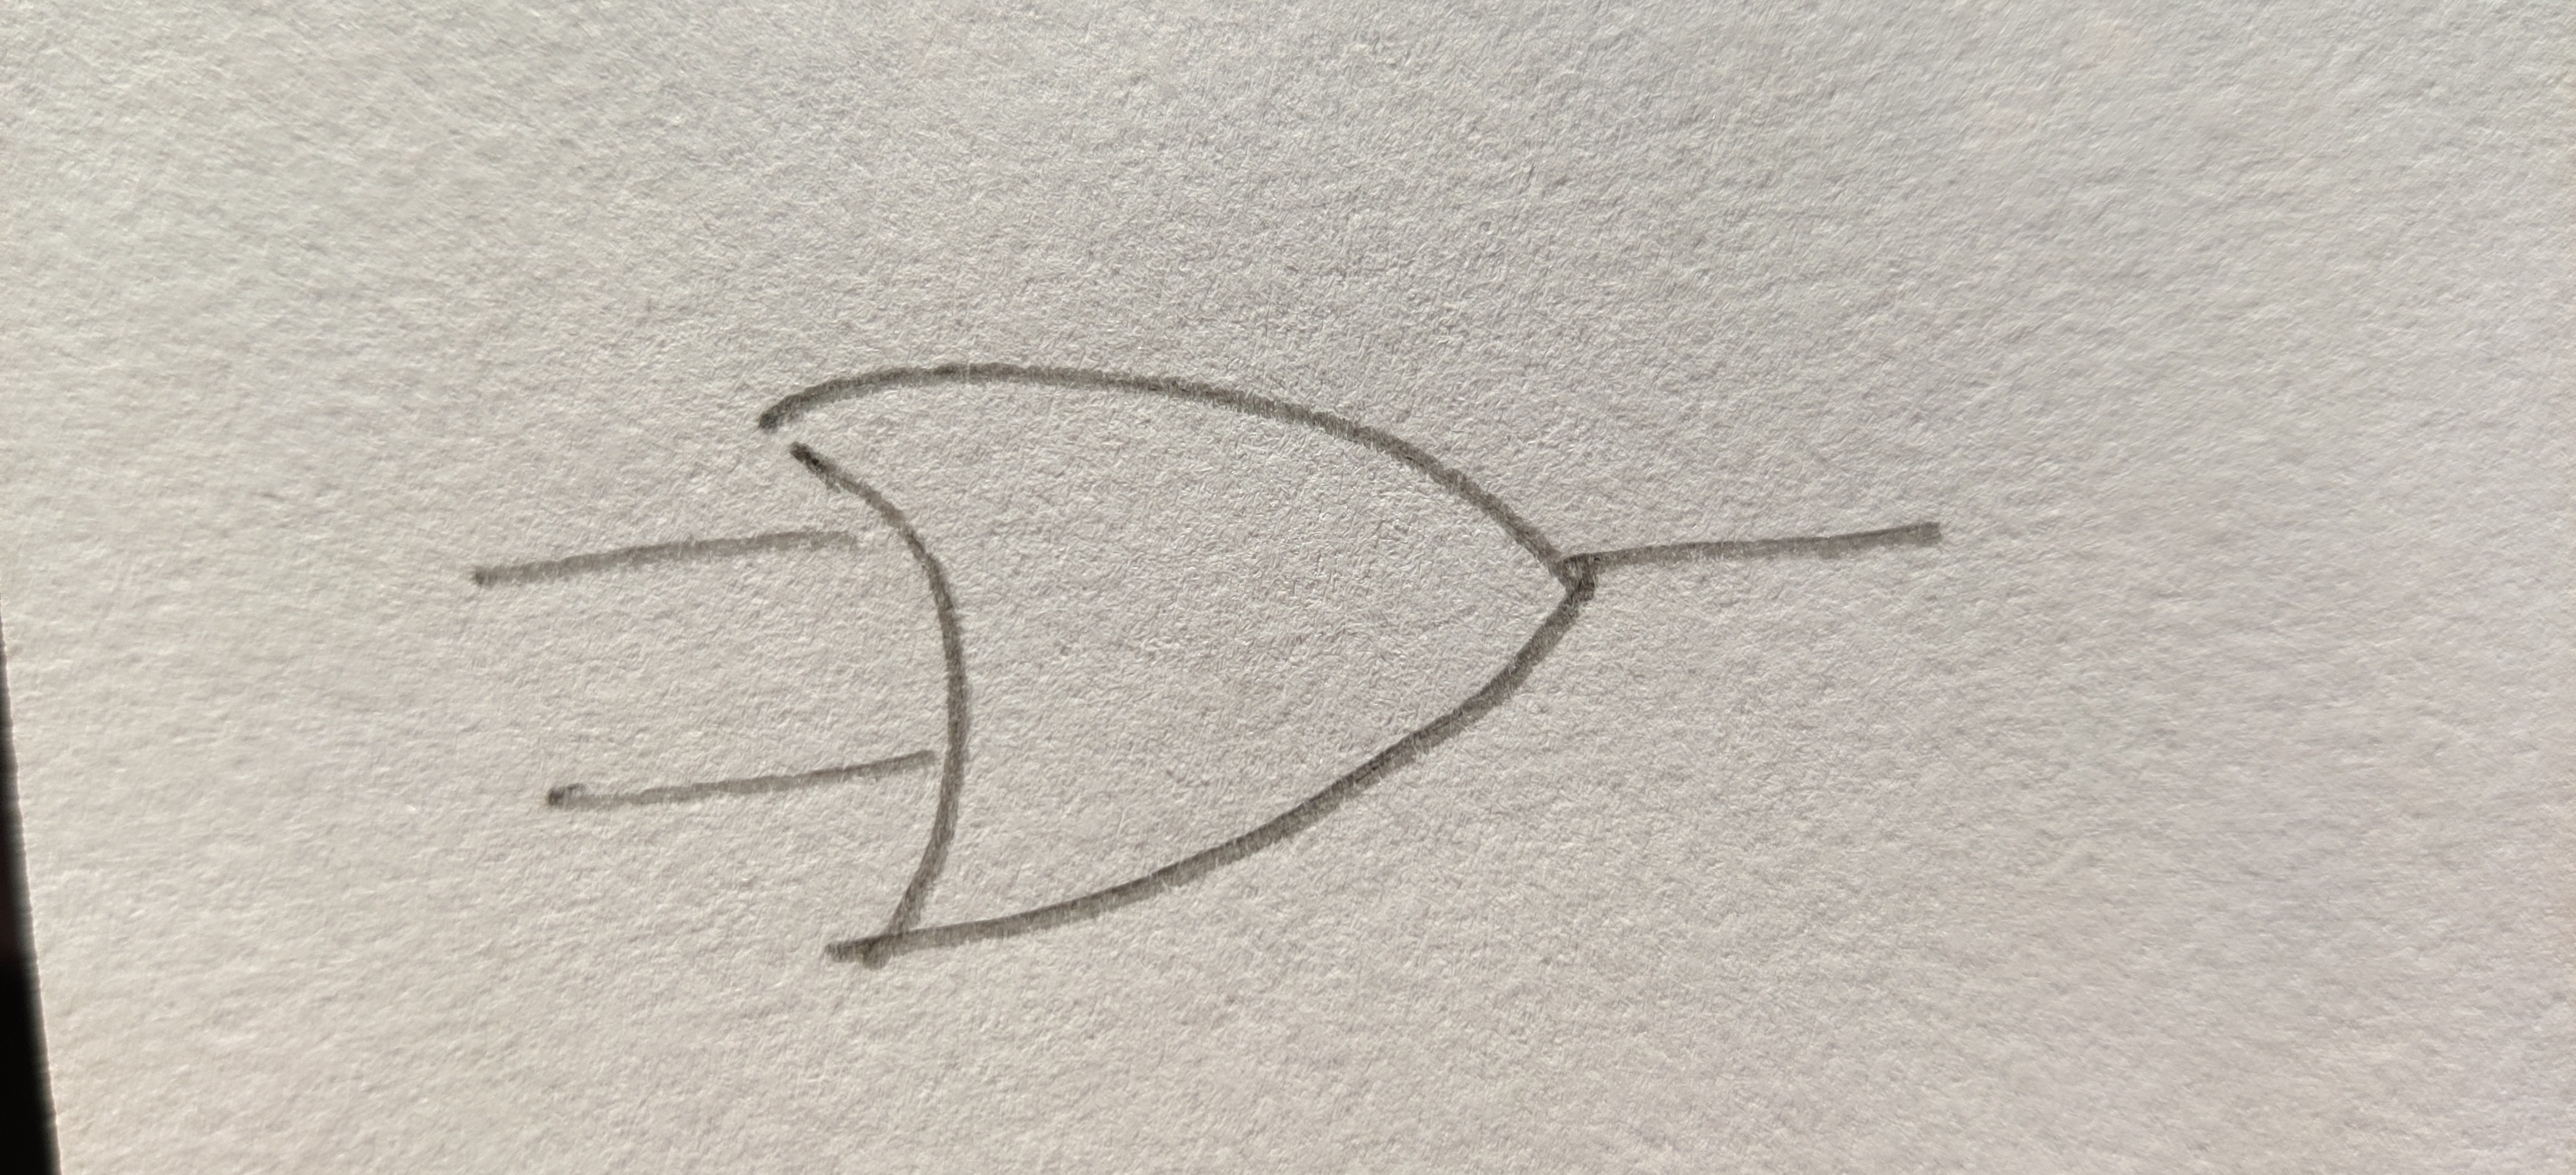or: (761, 363, 1592, 956)
